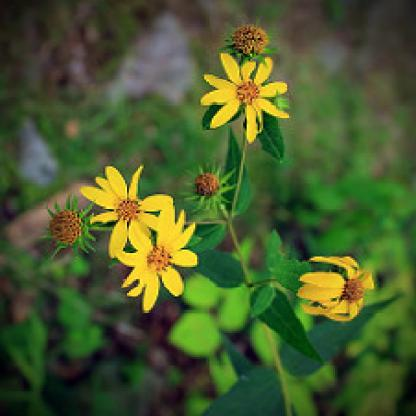SUN FLOWER: (58, 20, 393, 382)
